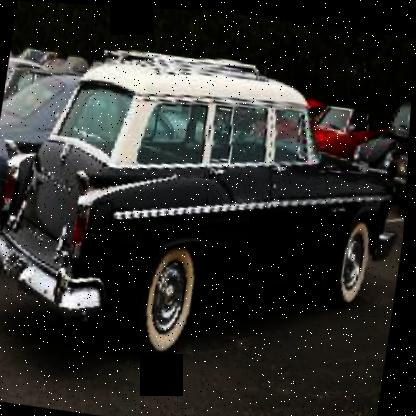not_emergency: (0, 18, 414, 399)
